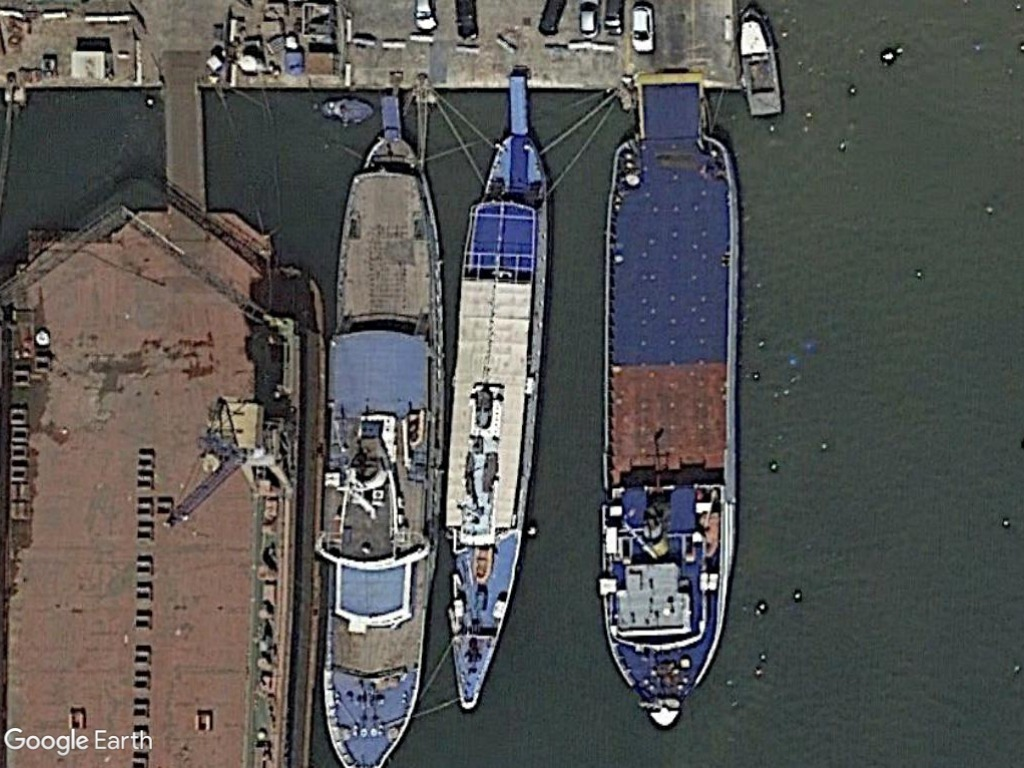boat: (605, 122, 740, 735), (321, 134, 445, 768), (439, 129, 555, 715), (732, 2, 790, 120)
car: (627, 0, 659, 59)
